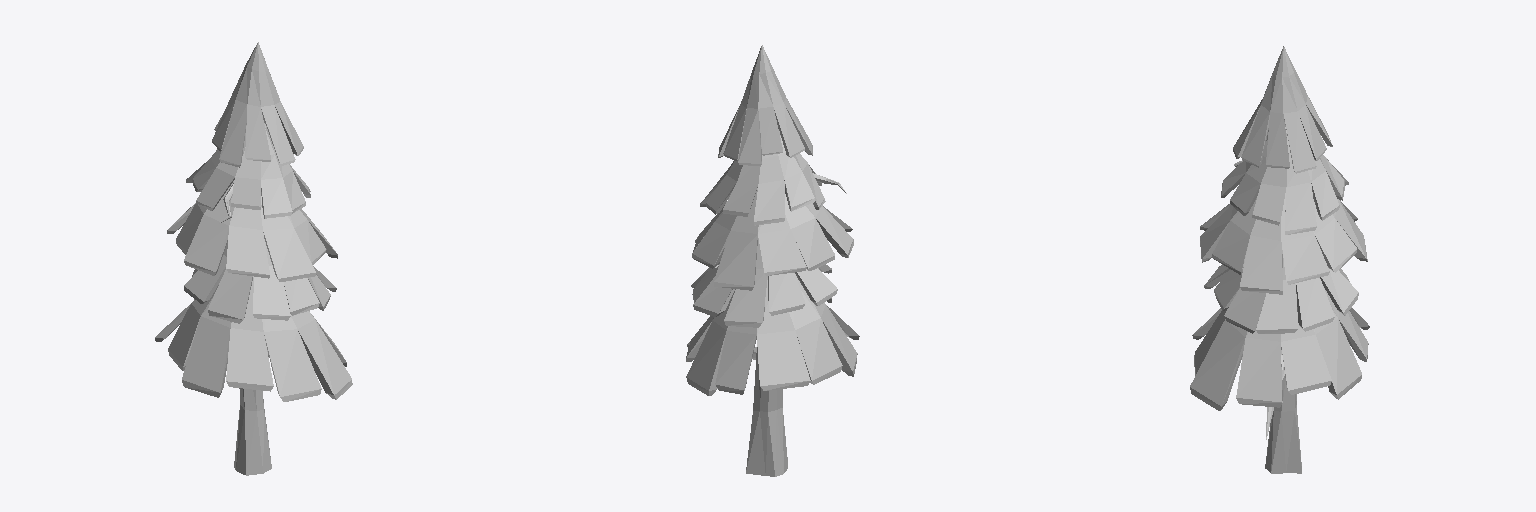
File: TreeFir6.obj
3 views of the same model, side by side, from view 1: azimuth 30°, elevation 25°; view 2: azimuth 150°, elevation 25°; view 3: azimuth 270°, elevation 25° (orthographic).
Visible parts, largest first — view 1: Tree_Fir_6; view 2: Tree_Fir_6; view 3: Tree_Fir_6.
Boxes of the visible parts, <box> form: Tree_Fir_6: <box>155,42,352,475</box>; Tree_Fir_6: <box>686,45,859,476</box>; Tree_Fir_6: <box>1190,46,1369,473</box>.
Bounding box in the file's own units: 0.1674 × 0.4257 × 0.1642.